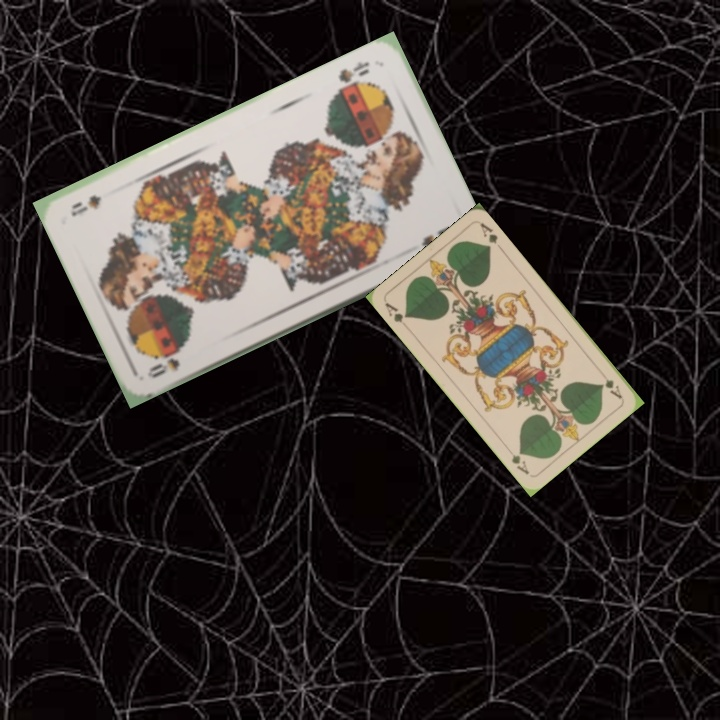GA: (596, 366, 625, 401), (381, 298, 412, 325)
SO: (333, 57, 372, 94), (143, 346, 183, 381)
